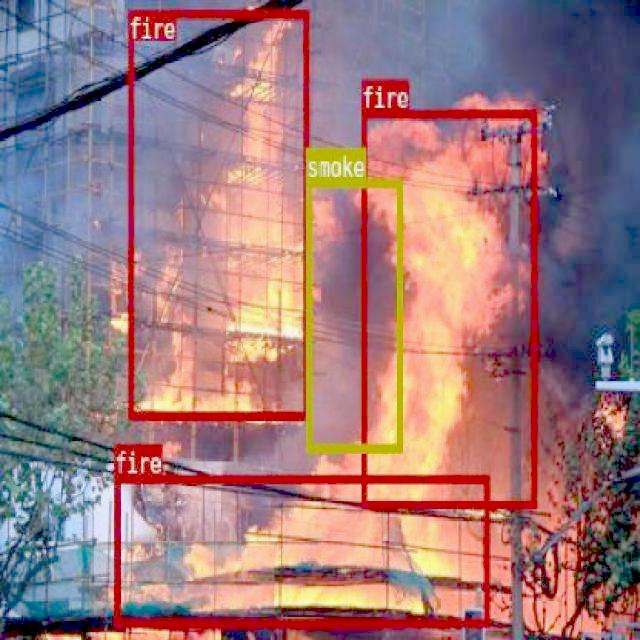fire: (128, 9, 308, 418), (360, 108, 536, 506), (112, 474, 490, 626)
smoke: (306, 178, 402, 452)
